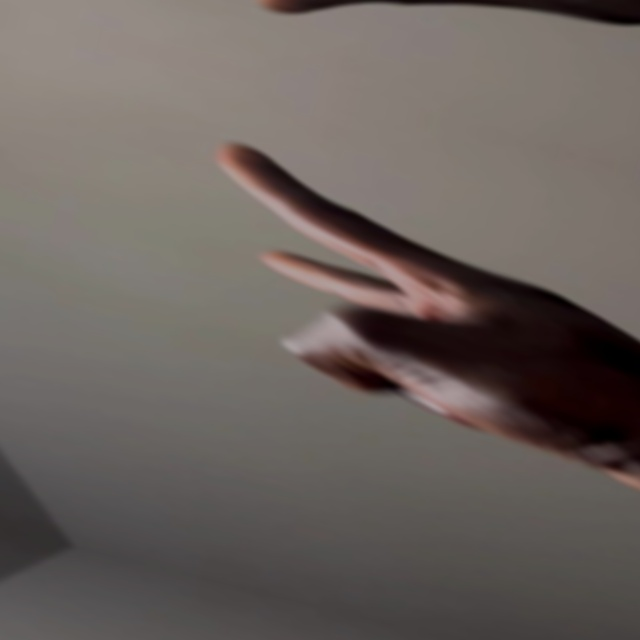Scissors: (254, 0, 640, 134)
